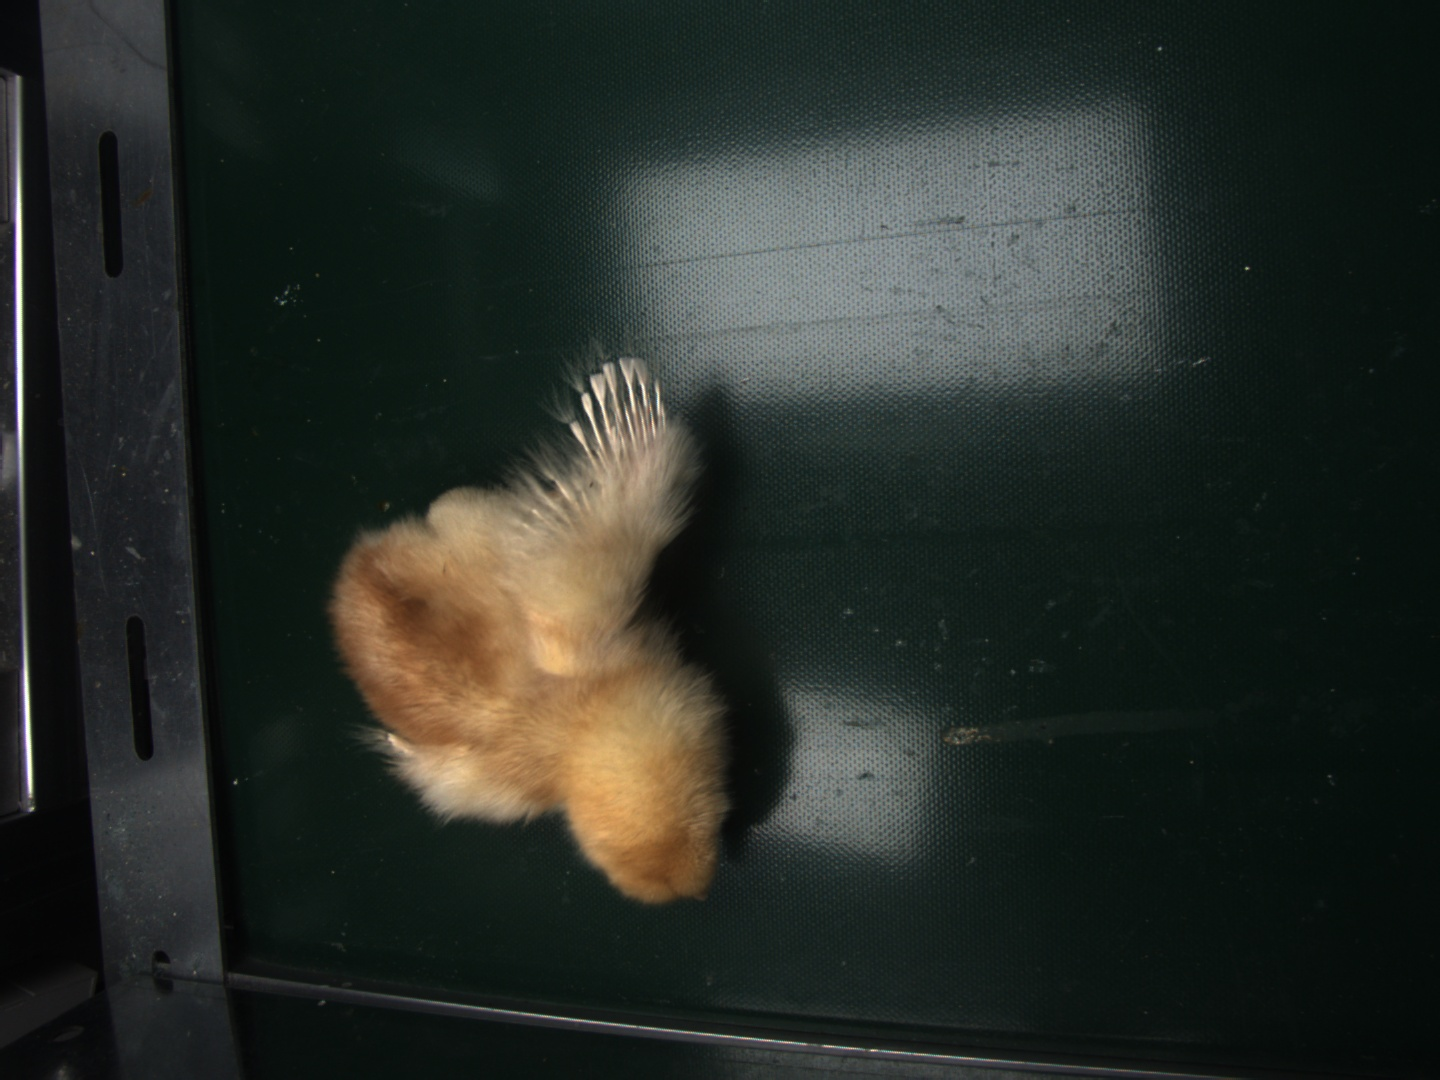female: (570, 353, 663, 463)
